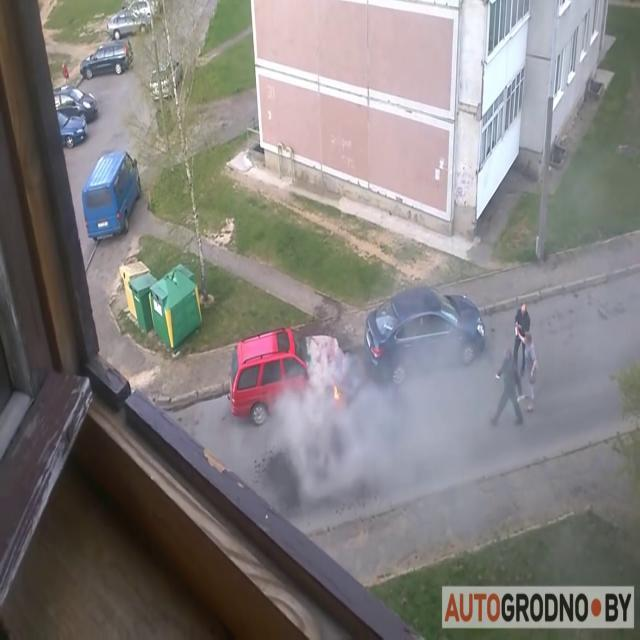Smoke: (268, 312, 502, 522)
